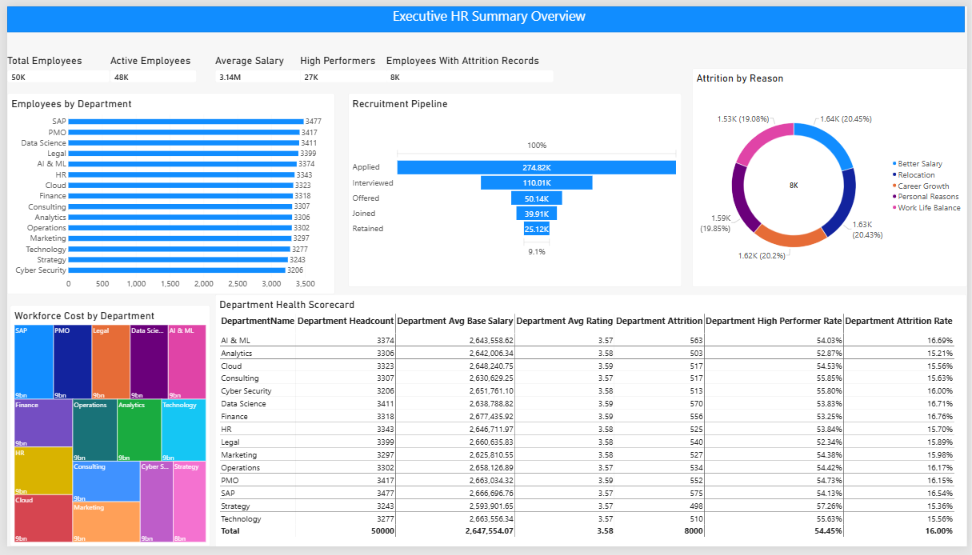

The page's visual inventory and layout, read from the dashboard file:
{"tool":"powerbi","page":{"name":"Executive HR Summary","canvas":[3840,2160],"ordinal":0},"visuals":[{"type":"shape","box":[0,0,3830,103.3],"z":0},{"type":"textbox","box":[10,0,3830,76.7],"z":1},{"type":"cardVisual","title":"Total Employees","fields":{"Data":["Count(FactWorkforce.EmployeeID)"]},"box":[0,190,410,113.3],"z":2},{"type":"cardVisual","title":"Active Employees","fields":{"Data":["Sum(FactWorkforce.IsActive)"]},"box":[410,190,346.7,113.3],"z":3},{"type":"cardVisual","title":"Average Salary","fields":{"Data":["Avg(FactWorkforce.CurrentSalary)"]},"box":[833.3,190,390,113.3],"z":4},{"type":"cardVisual","title":"High Performers","fields":{"Data":["Sum(FactPerformance.HighPerformerFlag)"]},"box":[1170,190,383.3,113.3],"z":5},{"type":"cardVisual","title":"Employees With Attrition Records","fields":{"Data":["Count(FactAttrition.EmployeeID)"]},"box":[1516.7,190,670,113.3],"z":6},{"type":"clusteredBarChart","title":"Employees by Department","fields":{"Category":["DimDepartment.DepartmentName"],"Y":["Count(FactWorkforce.EmployeeID)"]},"box":[0,346.7,1310,803.3],"z":7},{"type":"donutChart","title":"Attrition by Reason","fields":{"Category":["FactAttrition.AttritionReason"],"Y":["Count(FactAttrition.EmployeeID)"]},"box":[2740,246.7,1100,873.3],"z":8},{"type":"funnel","title":"Recruitment Pipeline","fields":{"Category":["FactRecruitment.Stage"],"Y":["Count(FactRecruitment.CandidateID)"]},"box":[1363.3,346.7,1333.3,773.3],"z":10},{"type":"treemap","title":"Workforce Cost by Department","fields":{"Group":["DimDepartment.DepartmentName"],"Values":["Sum(FactCompensation.BaseSalary)"]},"box":[10,1196.7,800,963.3],"z":11},{"type":"tableEx","title":"Department Health Scorecard","fields":{"Values":["DimDepartment.DepartmentName","DimDate.Department Headcount","DimDate.Department Avg Base Salary","DimDate.Department Avg Rating","DimDate.Department Attrition","DimDate.Department High Performer Rate","DimDate.Department Attrition Rate"]},"box":[833.3,1150,3006.7,1010],"z":12}]}

Visuals, with their boxes in screenshot pixels (x1, y1, x2, y2), scaled from the page's 3840x2160 canvas onto the 972x555 screenshot:
shape: <bbox>0, 0, 969, 27</bbox>
textbox: <bbox>3, 0, 971, 20</bbox>
"Total Employees" cardVisual: <bbox>0, 49, 104, 78</bbox>
"Active Employees" cardVisual: <bbox>104, 49, 192, 78</bbox>
"Average Salary" cardVisual: <bbox>211, 49, 310, 78</bbox>
"High Performers" cardVisual: <bbox>296, 49, 393, 78</bbox>
"Employees With Attrition Records" cardVisual: <bbox>384, 49, 554, 78</bbox>
"Employees by Department" clusteredBarChart: <bbox>0, 89, 332, 295</bbox>
"Attrition by Reason" donutChart: <bbox>694, 63, 971, 288</bbox>
"Recruitment Pipeline" funnel: <bbox>345, 89, 683, 288</bbox>
"Workforce Cost by Department" treemap: <bbox>3, 307, 205, 554</bbox>
"Department Health Scorecard" tableEx: <bbox>211, 295, 971, 554</bbox>
